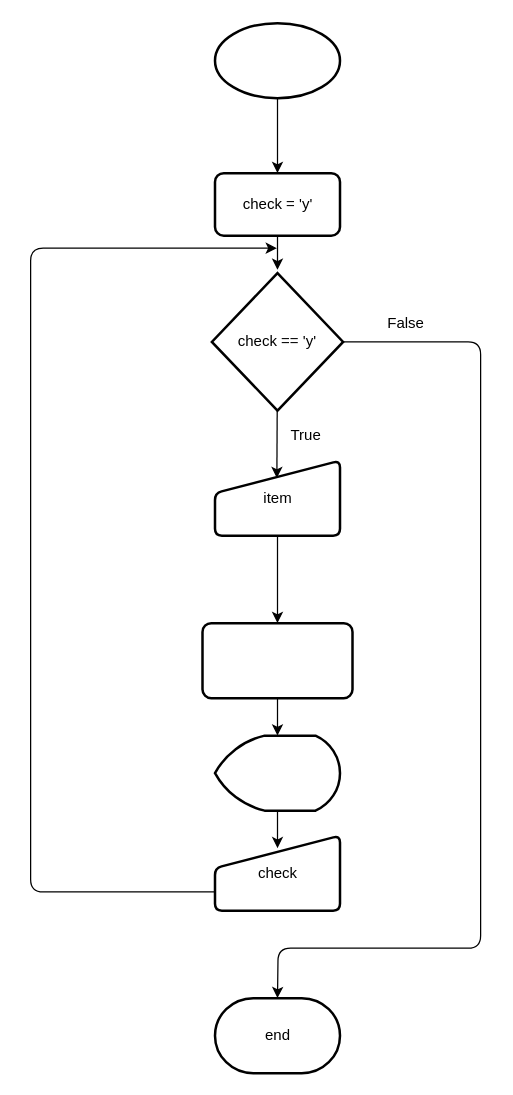
Some shapes in this 513 by 1095 pixel diagram are drawn without their labels. Here are the shapes that lost their labels. From the top down, the centre of each, then its label:
the point at 277,60: start
the point at 277,660: retail_price= item * 2.5
the point at 277,772: retail_price
